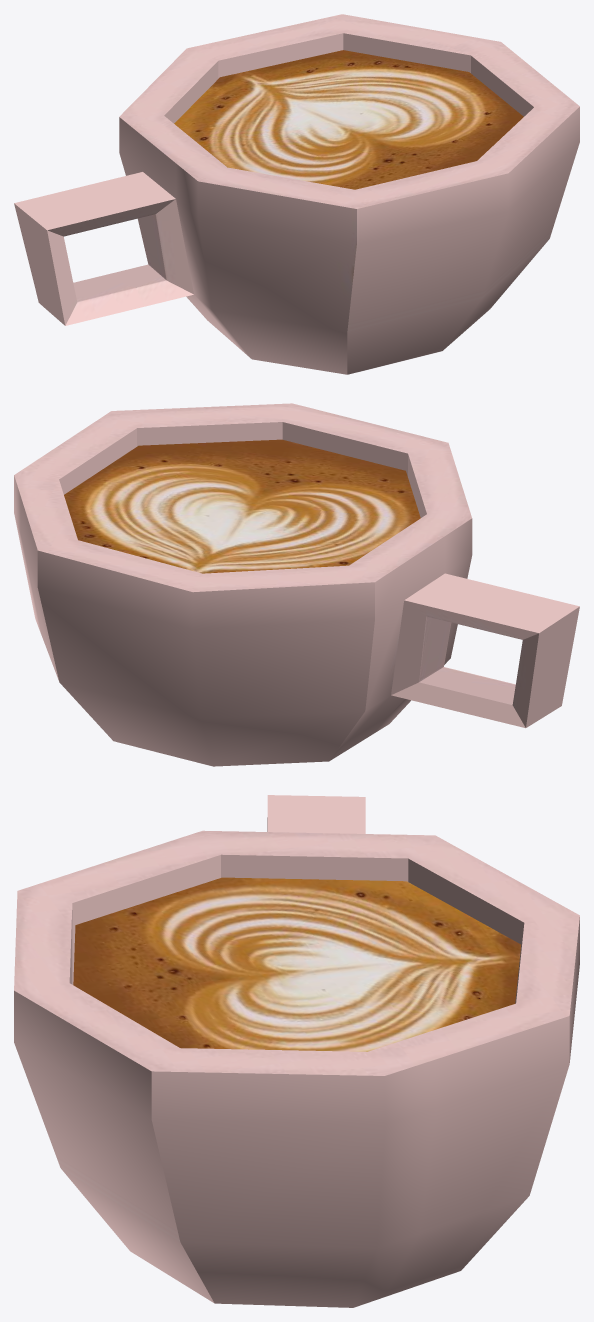
The model's file is TazaLlena_Model.fbx.
3 renders of one model, top to bottom at view 1: azimuth 30°, elevation 25°; view 2: azimuth 150°, elevation 25°; view 3: azimuth 270°, elevation 25°, orthographic. The views are drawn at different scales.
Visible parts, largest first — view 1: TazaRellena; view 2: TazaRellena; view 3: TazaRellena.
Boxes of the visible parts, box(x1,y1,x2,y2) form: TazaRellena: box(14, 14, 579, 374); TazaRellena: box(14, 403, 579, 766); TazaRellena: box(14, 795, 579, 1307).
Size of the model in its own units: 1.72 by 0.6877 by 1.25.
